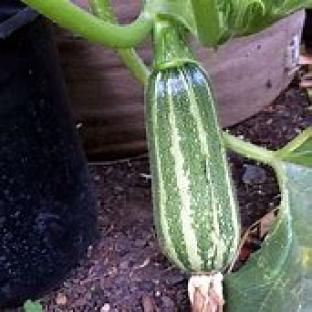Zucchini: (146, 23, 240, 273)
